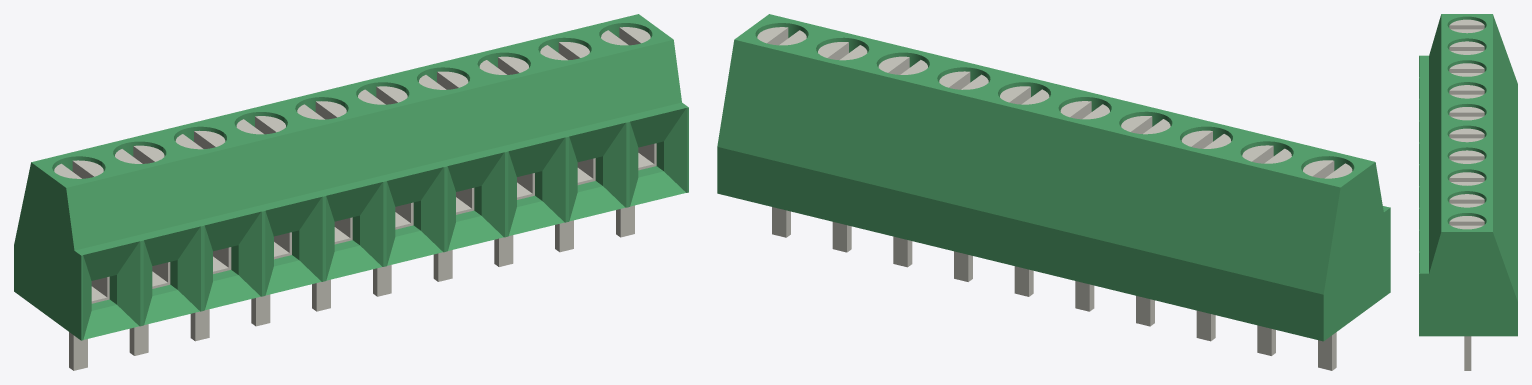
The model's file is kc-terminalblock_phoenix_mkds-1-10-3.81_1x10_p3.81mm_horizontal.glb.
3 views of the same model, side by side, from view 1: azimuth 30°, elevation 25°; view 2: azimuth 150°, elevation 25°; view 3: azimuth 270°, elevation 25° (orthographic). The views are drawn at different scales.
Parts seen in each view (by area): view 1: 0.08333333333333333_0.4166666666666667_0.16666666666666666_0, 0.6666666666666666_0.6666666666666666_0.5833333333333334_0.8; view 2: 0.08333333333333333_0.4166666666666667_0.16666666666666666_0, 0.6666666666666666_0.6666666666666666_0.5833333333333334_0.8; view 3: 0.08333333333333333_0.4166666666666667_0.16666666666666666_0, 0.6666666666666666_0.6666666666666666_0.5833333333333334_0.8.
Boxes of the visible parts, x1=… form: 0.08333333333333333_0.4166666666666667_0.16666666666666666_0: x1=14, y1=14, x2=688, y2=340; 0.6666666666666666_0.6666666666666666_0.5833333333333334_0.8: x1=54, y1=27, x2=656, y2=370; 0.08333333333333333_0.4166666666666667_0.16666666666666666_0: x1=717, y1=14, x2=1390, y2=341; 0.6666666666666666_0.6666666666666666_0.5833333333333334_0.8: x1=757, y1=27, x2=1352, y2=370; 0.08333333333333333_0.4166666666666667_0.16666666666666666_0: x1=1419, y1=14, x2=1517, y2=336; 0.6666666666666666_0.6666666666666666_0.5833333333333334_0.8: x1=1449, y1=19, x2=1484, y2=370.
Bounding box in the file's own units: 3.81 × 1.2 × 0.7297.
